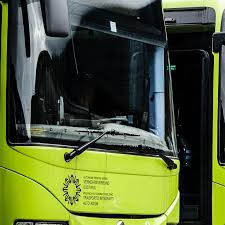bus: (1, 1, 181, 224), (159, 1, 224, 224)
